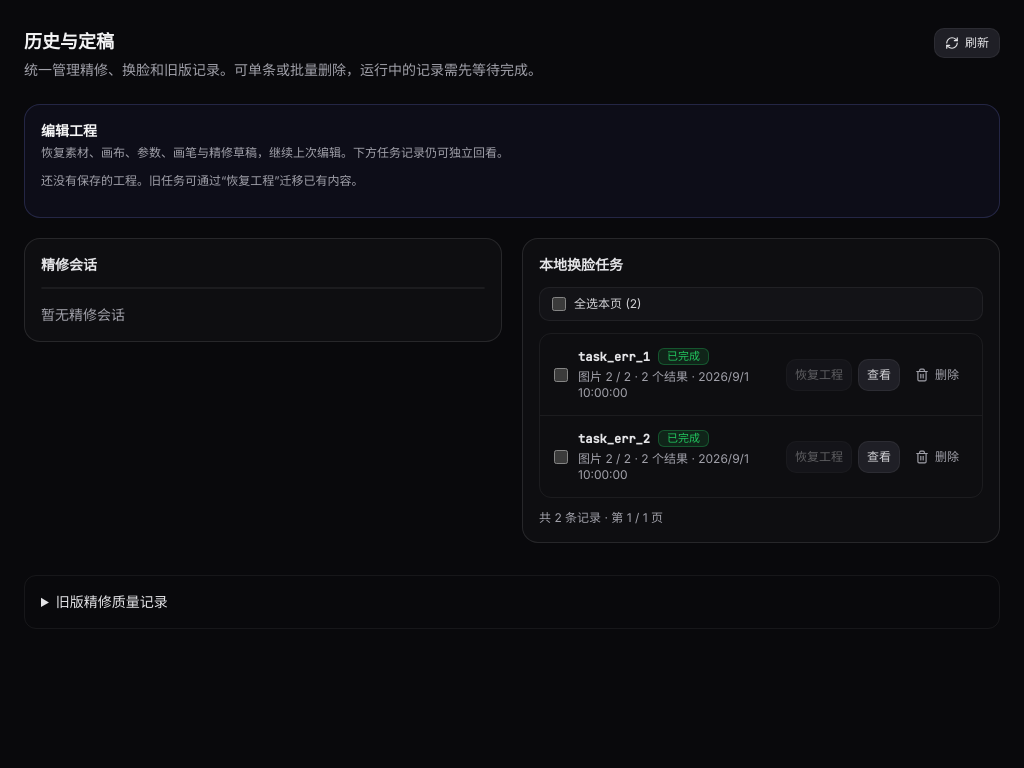
Test: HistoryWorkspace batch task deletion › shows error notice when batch deletion fails partially or completely
expect the text "task_err_1" is shown: met, box [578,348,650,364]
// Select all
Step 1. Click the checkbox labelled "全选本页" → (559, 304), box [552,297,566,311]
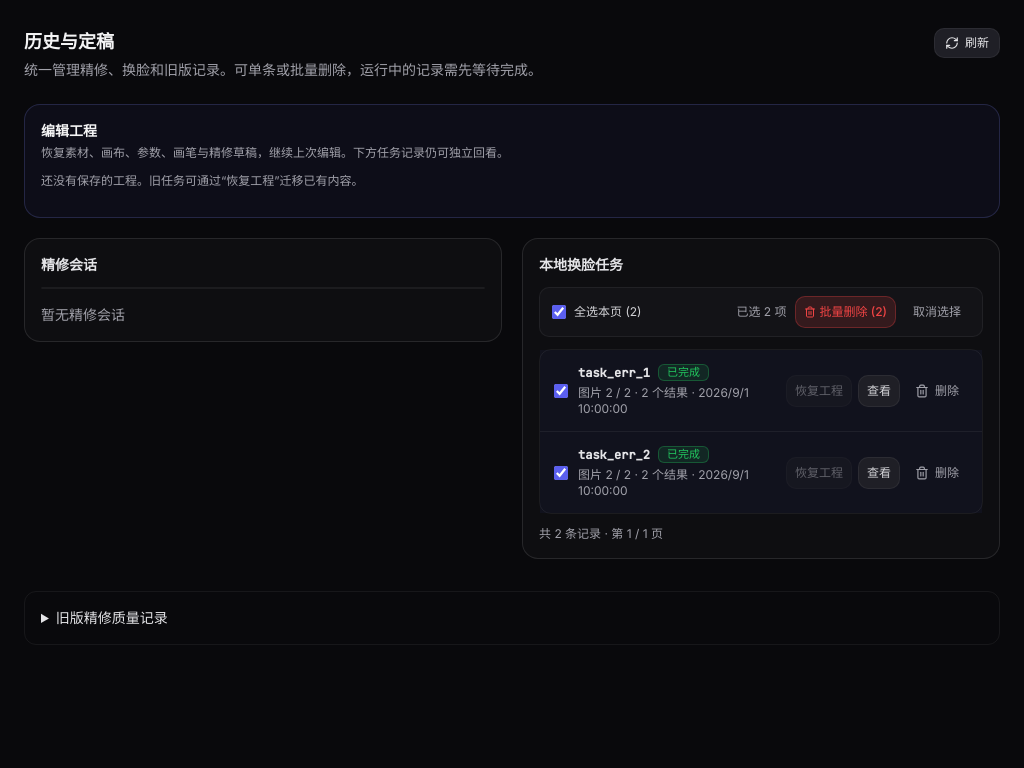
Step 2. Click the button with aria-label "批量删除 2 项" → (845, 312), box [794,296,896,328]
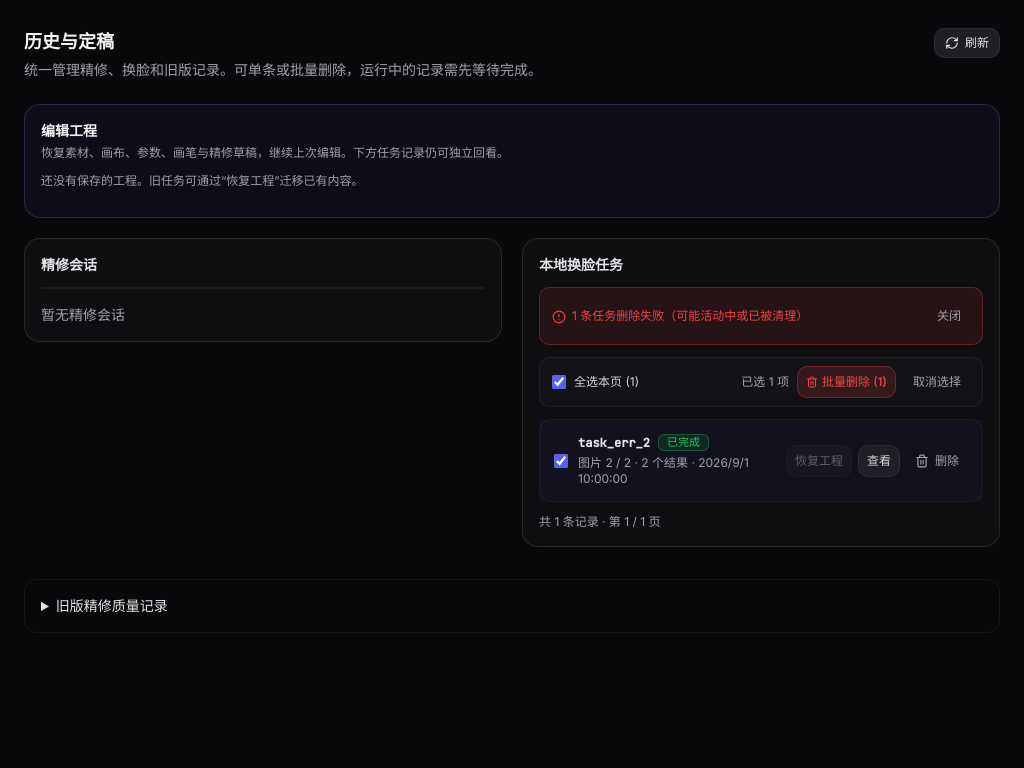
expect the text "task_err_2" is shown: met, box [578,434,650,450]
expect the message shows "1 条任务删除失败": met, box [572,308,808,323]
expect the button "task_err_1" is gone: met
